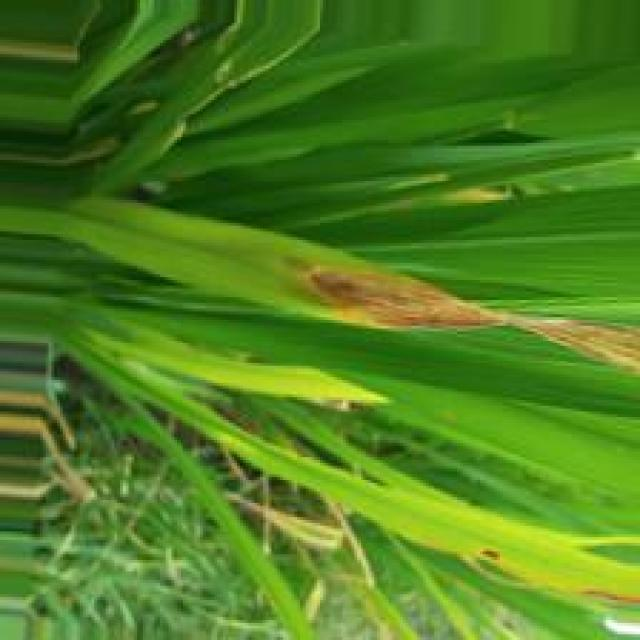Leaf_Scald: (306, 267, 640, 387)
